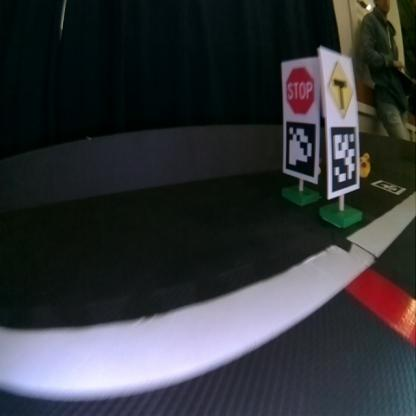Duckie: (360, 155, 366, 177)
Intersection sign: (325, 57, 356, 115)
QR code: (329, 128, 357, 194), (285, 124, 315, 175), (370, 178, 406, 194)
Stop sign: (286, 64, 314, 115)
